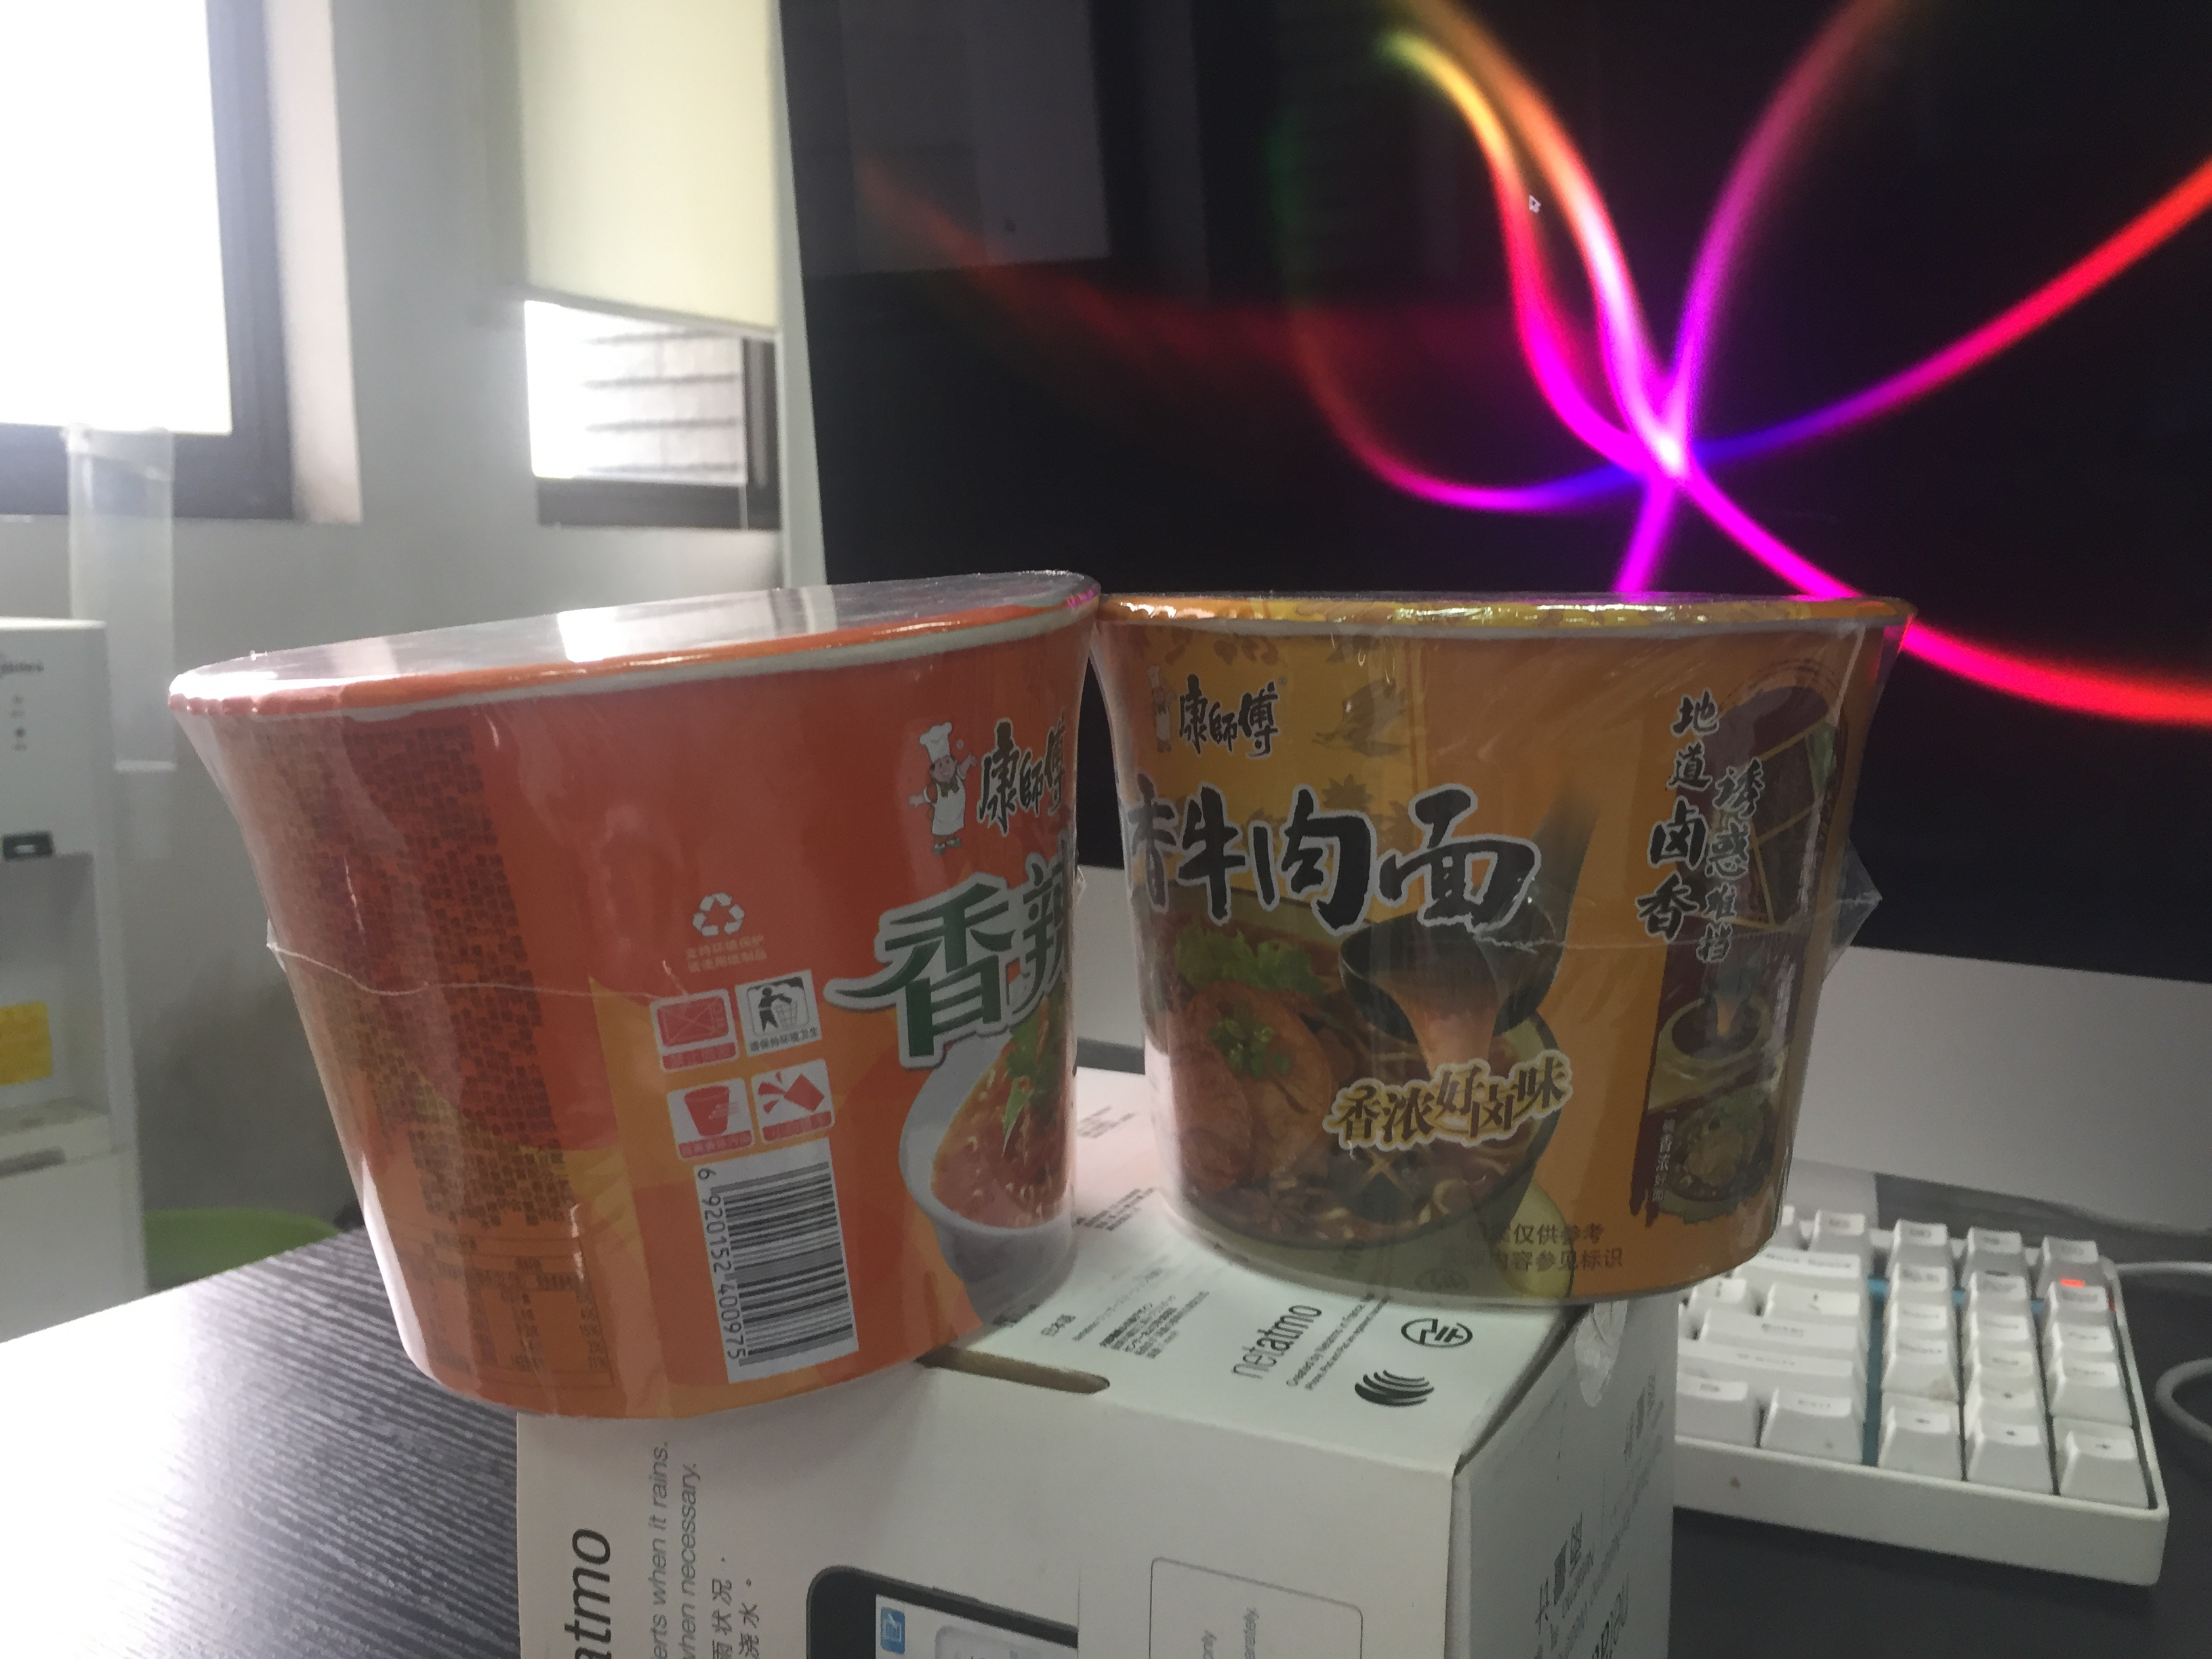luxiang: (1090, 589, 1919, 1314)
xiangla: (165, 568, 1099, 1424)
